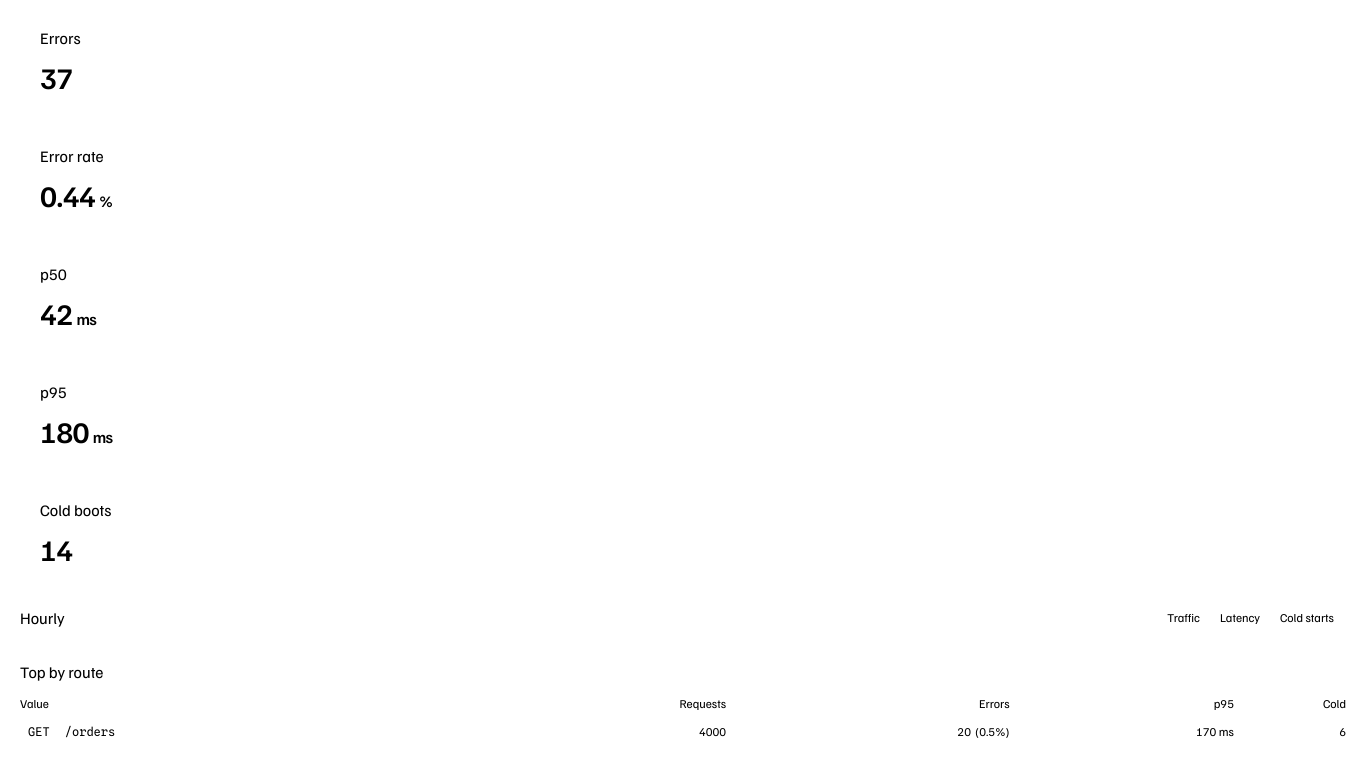
AppAnalyticsPanel › never plots a zero-filled idle hour as a 0 ms latency
(page scrolled)
Click the button "Latency": (1240,618) left=1210, top=606, right=1270, bottom=630
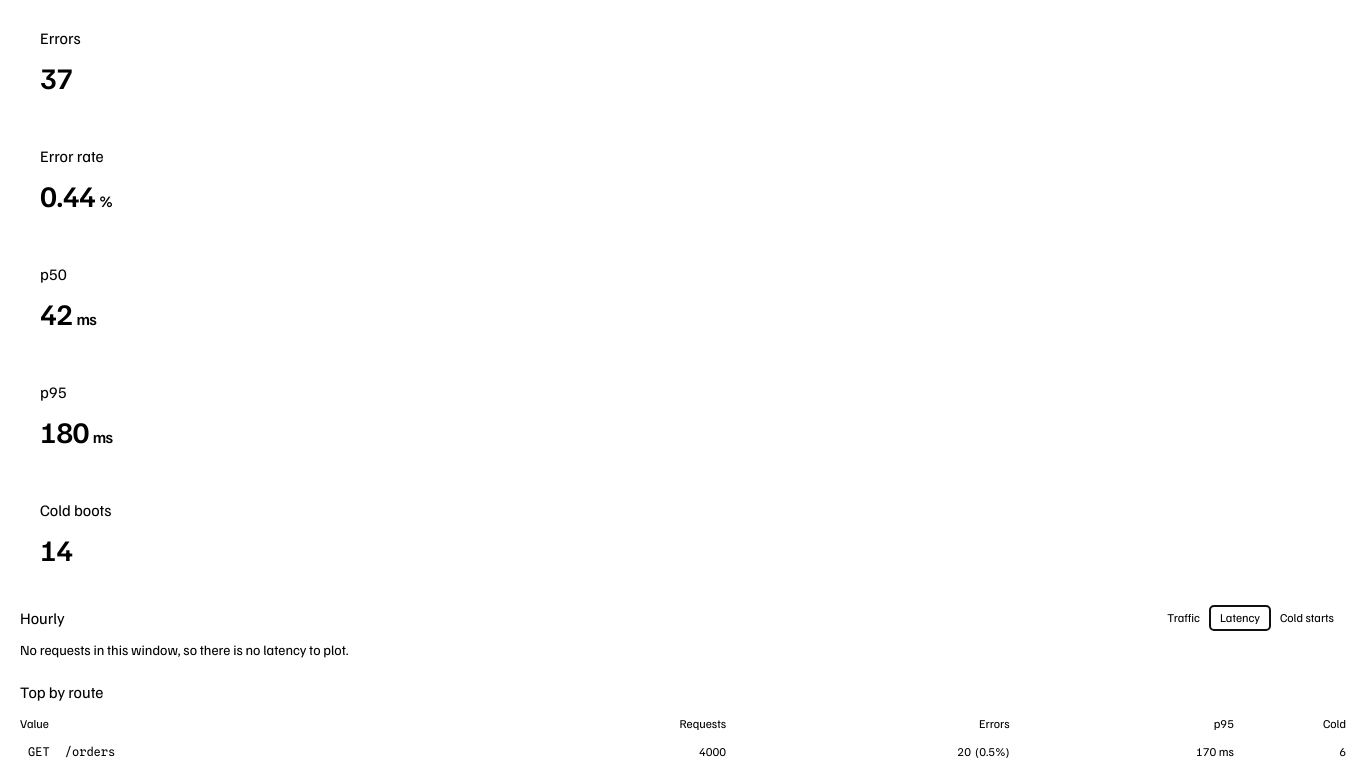
Expected: the text "No requests in this window, so there is no latency to plot." is shown, left=20, top=641, right=348, bottom=658
